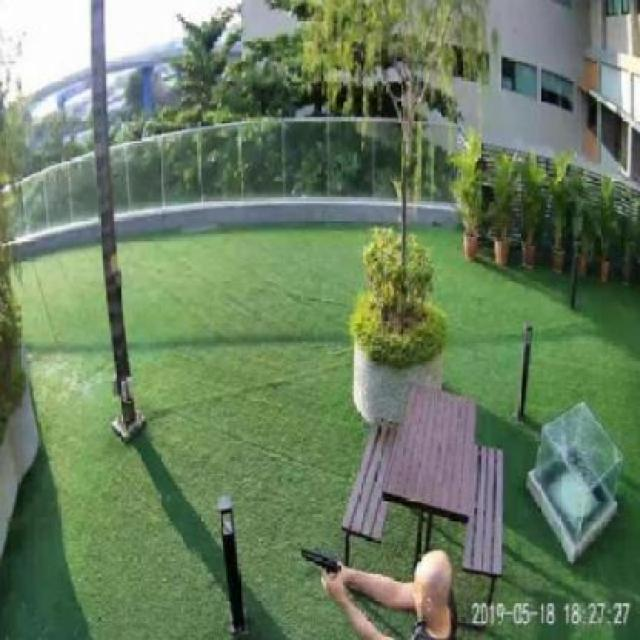gun: (296, 542, 339, 592)
